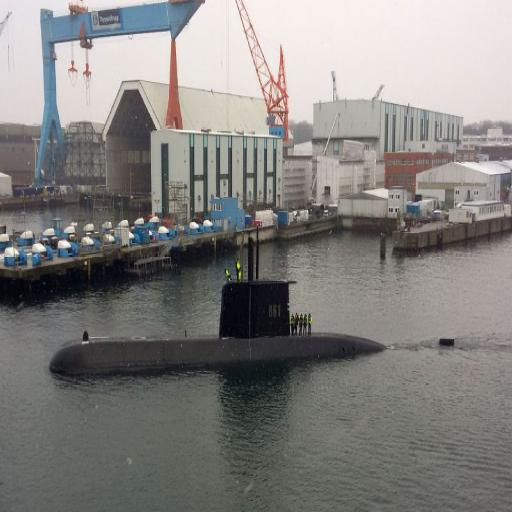submarine: (49, 218, 458, 379)
